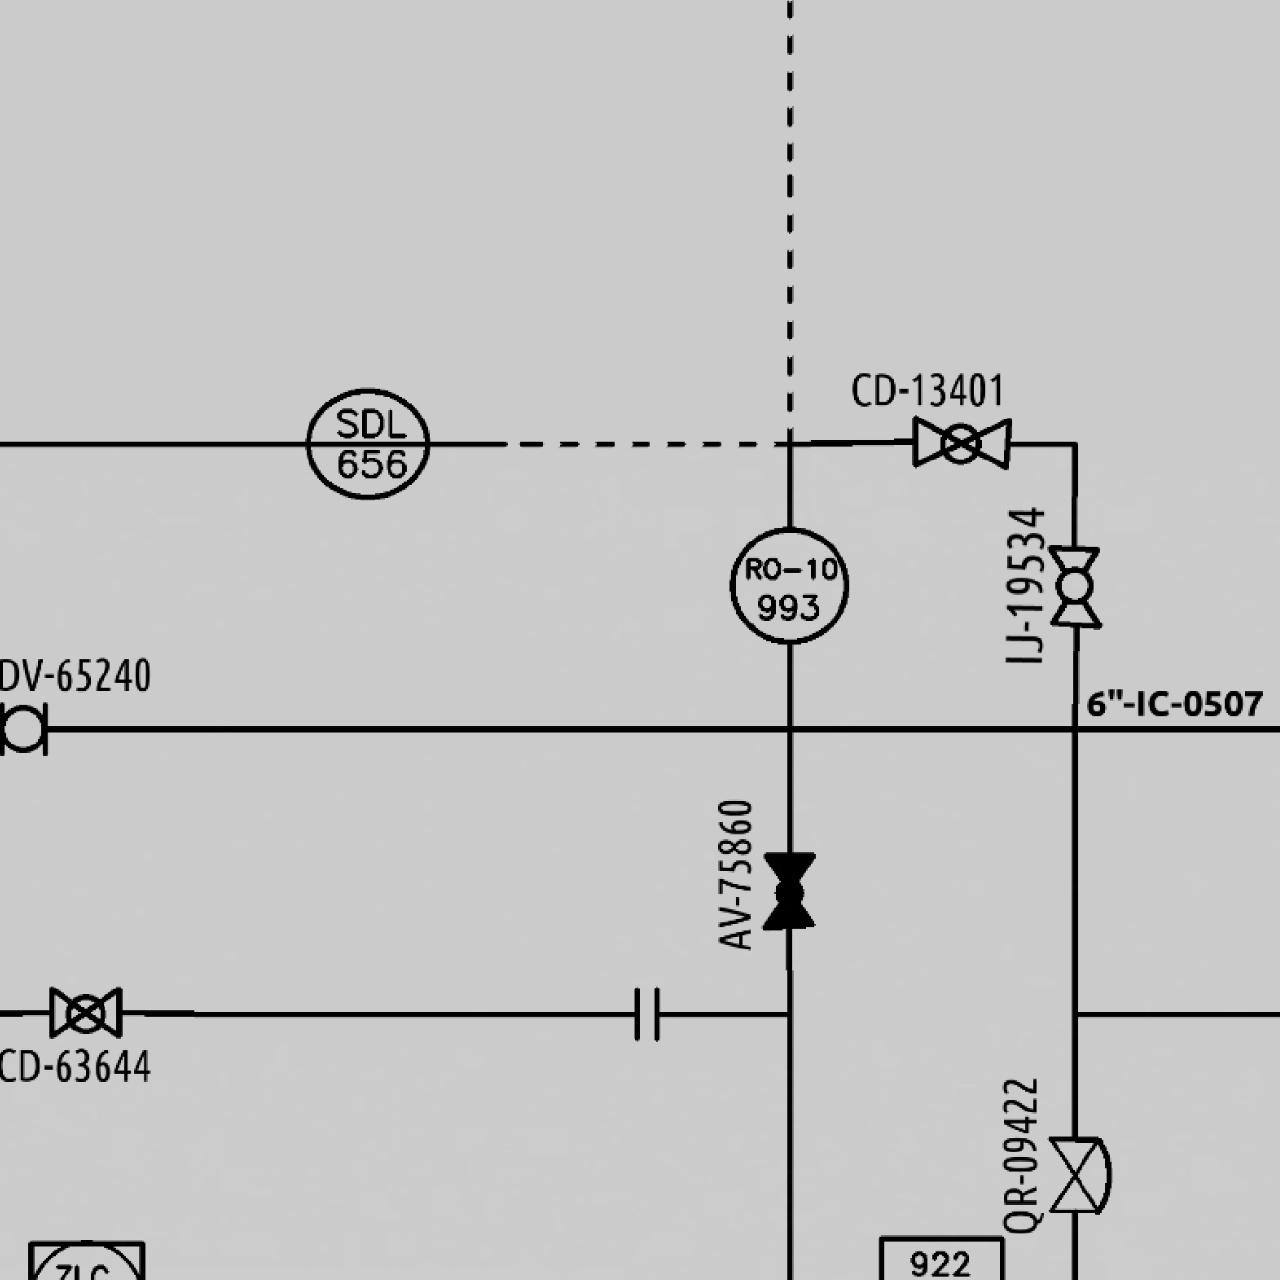Control-Panel: (726, 520, 852, 648)
